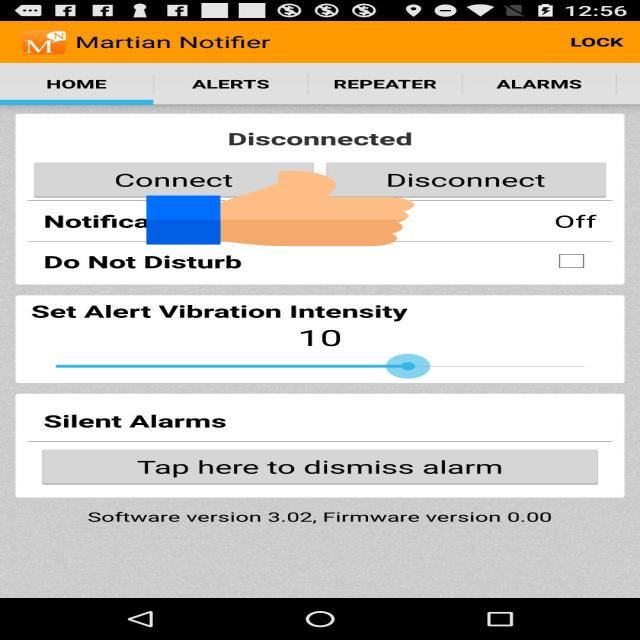privacy zuckering: (146, 169, 414, 248)
